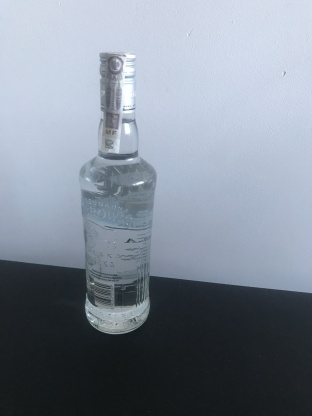nakretka: (96, 47, 139, 115)
